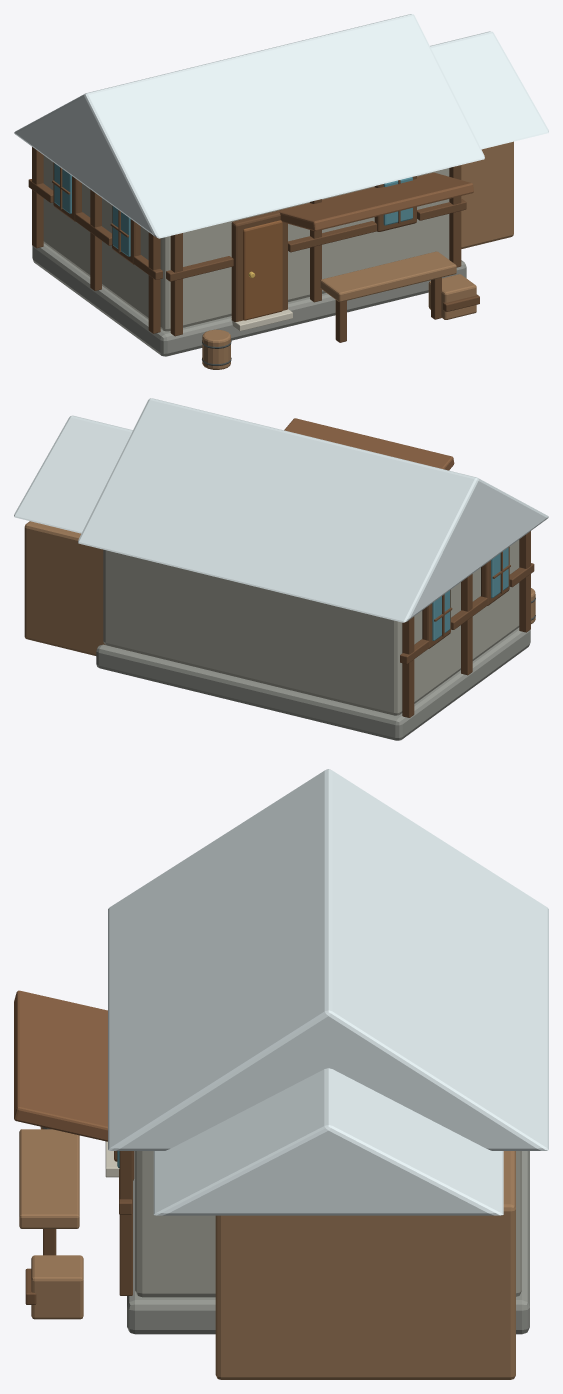
Rendered from snowy-artisan-1.glb.
3 renders of one model, top to bottom at view 1: azimuth 30°, elevation 25°; view 2: azimuth 150°, elevation 25°; view 3: azimuth 270°, elevation 25°, orthographic. The views are drawn at different scales.
Visible parts, largest first — view 1: Snow, Fieldstone, Dark beams, Aged oak, Foundation stone, Wood shingles, Door oak, Blue glass, Cut limestone; view 2: Snow, Fieldstone, Foundation stone, Aged oak, Dark beams, Wood shingles, Blue glass; view 3: Snow, Aged oak, Wood shingles, Fieldstone, Foundation stone, Dark beams.
Boxes of the visible parts, x1=… form: Snow: x1=14, y1=14, x2=548, y2=238; Fieldstone: x1=43, y1=155, x2=449, y2=331; Dark beams: x1=28, y1=147, x2=479, y2=342; Aged oak: x1=202, y1=141, x2=513, y2=369; Foundation stone: x1=32, y1=243, x2=466, y2=356; Wood shingles: x1=279, y1=172, x2=473, y2=231; Door oak: x1=243, y1=220, x2=282, y2=320; Blue glass: x1=54, y1=163, x2=412, y2=256; Cut limestone: x1=231, y1=309, x2=292, y2=331; Snow: x1=14, y1=398, x2=548, y2=622; Fieldstone: x1=103, y1=540, x2=519, y2=715; Foundation stone: x1=96, y1=627, x2=530, y2=740; Aged oak: x1=24, y1=521, x2=535, y2=655; Dark beams: x1=400, y1=531, x2=534, y2=717; Wood shingles: x1=284, y1=418, x2=454, y2=470; Blue glass: x1=432, y1=547, x2=508, y2=640; Snow: x1=108, y1=769, x2=548, y2=1215; Aged oak: x1=19, y1=1126, x2=515, y2=1379; Wood shingles: x1=14, y1=990, x2=107, y2=1141; Fieldstone: x1=135, y1=1151, x2=521, y2=1297; Foundation stone: x1=127, y1=1151, x2=529, y2=1334; Dark beams: x1=25, y1=1151, x2=134, y2=1304.
Bounding box in the file's own units: 5.38 × 2.76 × 4.01.
